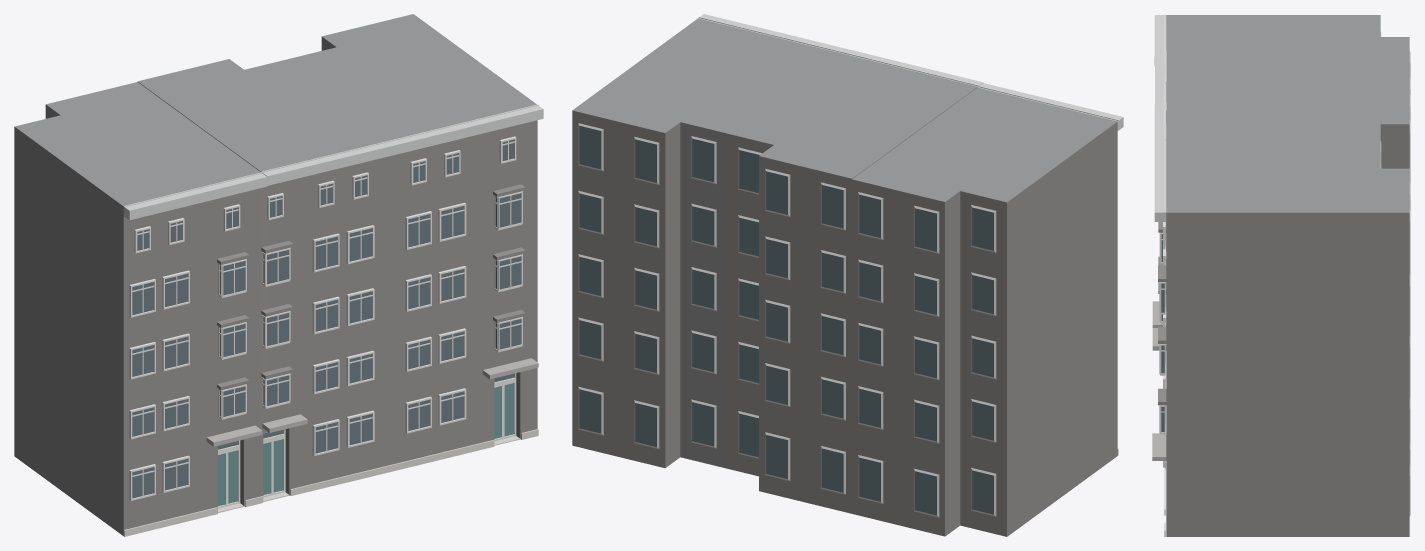
The model's file is chunk-face-burger-45-131-r1.glb.
The picture shows the model from 3 angles, left to right: view 1: azimuth 30°, elevation 25°; view 2: azimuth 150°, elevation 25°; view 3: azimuth 270°, elevation 25°; orthographic projection. The views are drawn at different scales.
Visible parts, largest first — view 1: face-burger-45-131-r1; view 2: face-burger-45-131-r1; view 3: face-burger-45-131-r1.
Part boxes in pixels (x1,y1,x2,y2): face-burger-45-131-r1: (14,14,543,536); face-burger-45-131-r1: (572,14,1123,536); face-burger-45-131-r1: (1152,14,1410,536).
Size of the model in its own units: 20.25 by 15.49 by 11.15.
